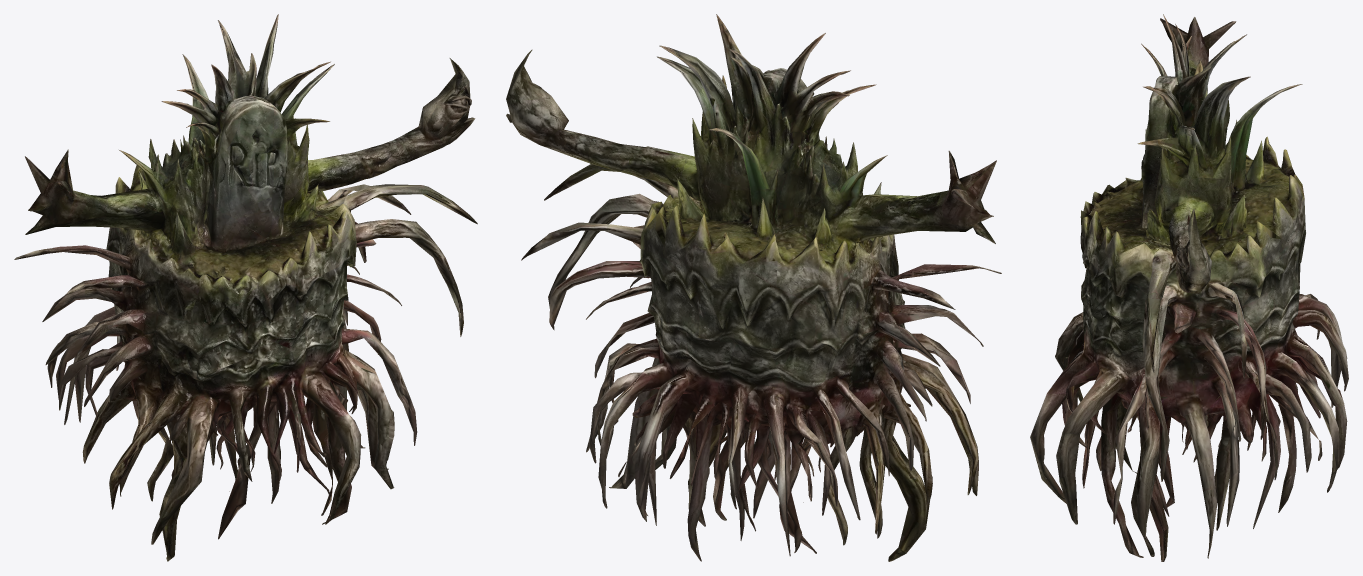
The model's file is GraveTitan.glb.
3 renders of one model, left to right at view 1: azimuth 30°, elevation 25°; view 2: azimuth 150°, elevation 25°; view 3: azimuth 270°, elevation 25°, orthographic. The views are drawn at different scales.
Bounding box in the file's own units: 1.85 × 1.9 × 1.1.
Materials: 1 (1 with a texture image).
